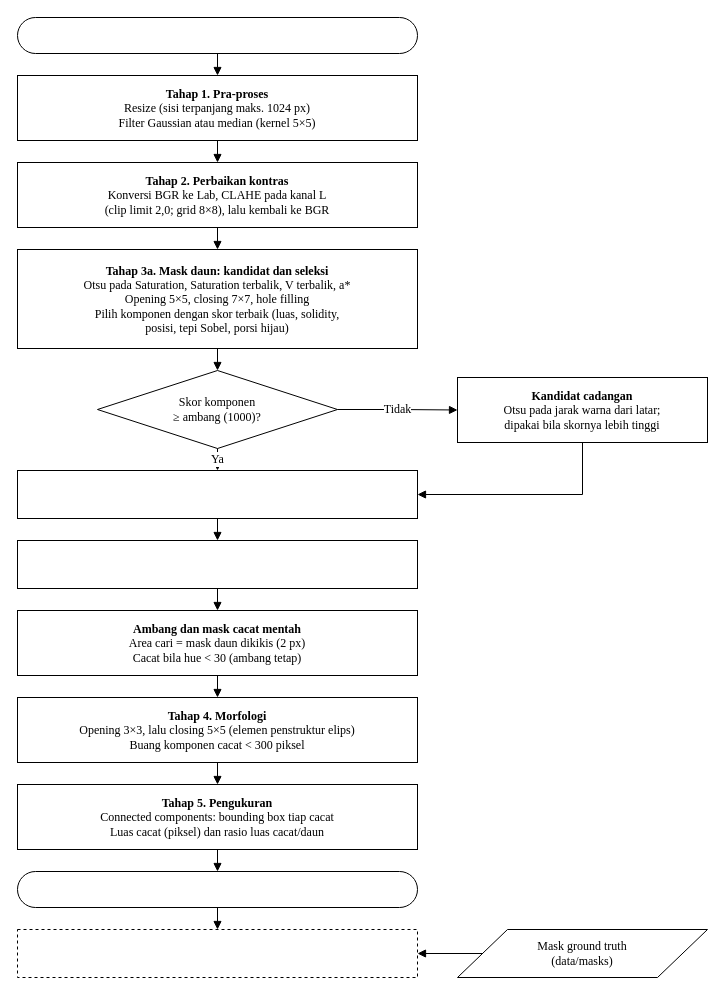
This 725x995 diagram has some shape labels left out. Here are the shapes that lost their labels. From the top down, the centre of each, then its label:
pixel 217 35: Citra masukan (BGR)
pixel 217 494: Hole filling (flood fill) dan convex hull menghasilkan mask daun (0/255)
pixel 217 564: Tahap 3b. Fitur cacat per piksel Kanal hue (HSV) citra hasil CLAHE
pixel 217 889: Keluaran: mask cacat biner (0/255), bounding box, luas
pixel 217 953: Evaluasi IoU, Dice, precision, recall
